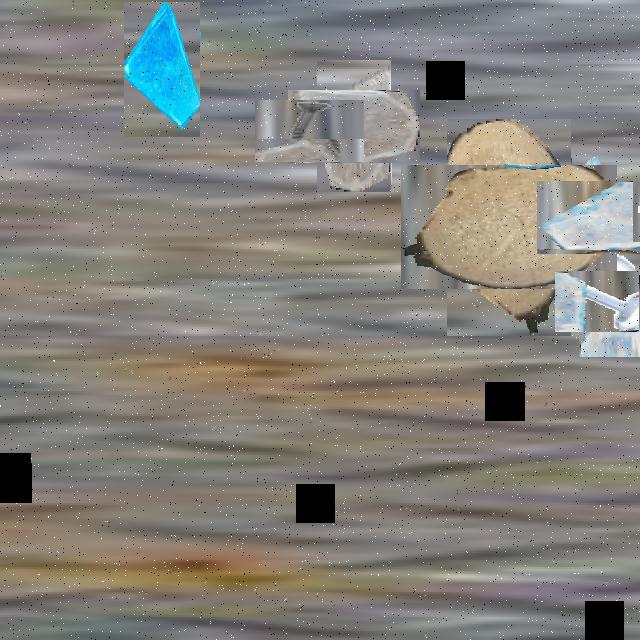glass: (302, 75, 406, 177), (124, 2, 200, 137), (551, 165, 640, 268)
metal: (266, 89, 352, 174), (566, 259, 640, 344)
wood: (424, 142, 594, 313)
